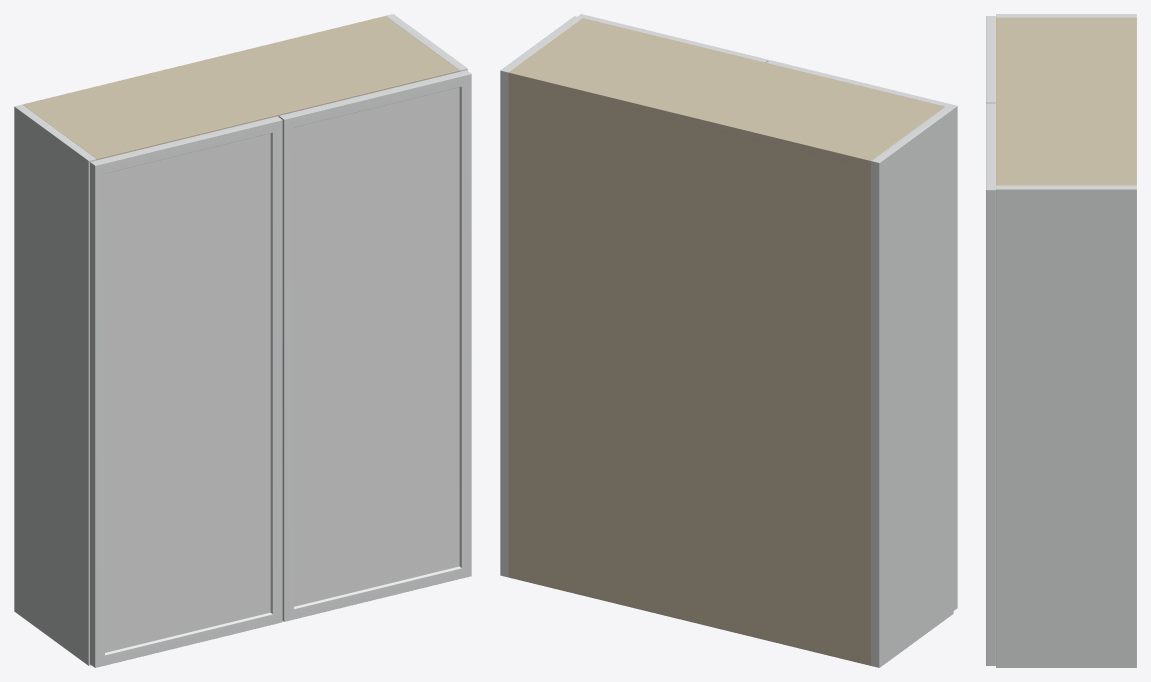
The model's file is oppein-ply-ssw-w3342.glb.
The picture shows the model from 3 angles, left to right: view 1: azimuth 30°, elevation 25°; view 2: azimuth 150°, elevation 25°; view 3: azimuth 270°, elevation 25°; orthographic projection. The views are drawn at different scales.
Visible parts, largest first — view 1: Door, Door.001, Cabinet side, Cabinet top; view 2: Cabinet back, Cabinet side, Cabinet top, Cabinet side.001, Door, Door.001, Cabinet bottom; view 3: Cabinet side.001, Cabinet top, Door.001, Door, Cabinet side.
Boxes of the visible parts, x1,y1,x2,y2 form: Door: (90, 116, 282, 667); Door.001: (279, 70, 471, 621); Cabinet side: (14, 104, 96, 665); Cabinet top: (22, 16, 459, 160); Cabinet back: (508, 72, 872, 665); Cabinet side: (871, 106, 953, 667); Cabinet top: (508, 18, 945, 168); Cabinet side.001: (500, 16, 582, 577); Door: (766, 60, 957, 610); Door.001: (577, 14, 768, 62); Cabinet bottom: (508, 570, 871, 665); Cabinet side.001: (996, 185, 1136, 667); Cabinet top: (996, 17, 1136, 185); Door.001: (986, 103, 995, 665); Door: (986, 16, 995, 103); Cabinet side: (996, 14, 1136, 17).
Bounding box in the file's own units: 0.8382 × 1.07 × 0.3048.
